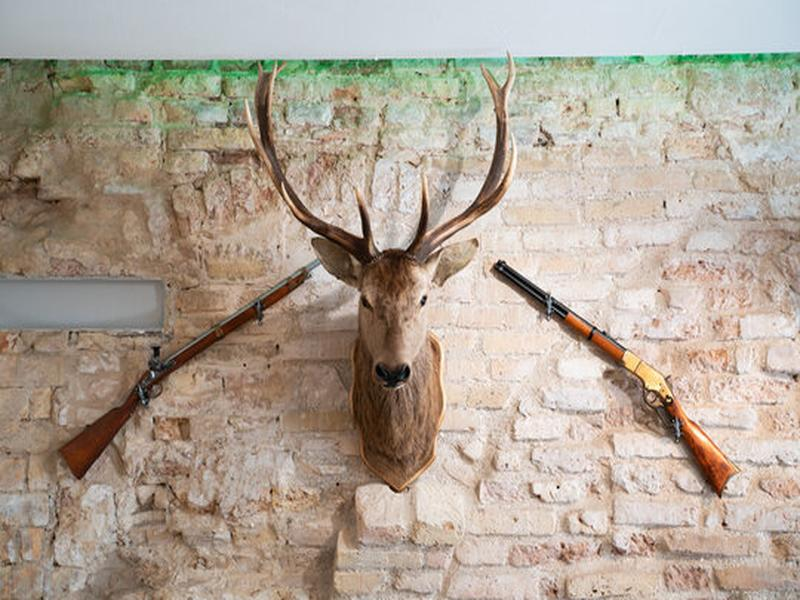elk: (244, 66, 530, 492)
